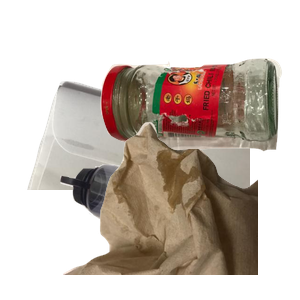glass: (98, 56, 300, 201)
paper: (25, 79, 265, 259)
plastic: (58, 162, 261, 300)
trash: (60, 120, 300, 300)
